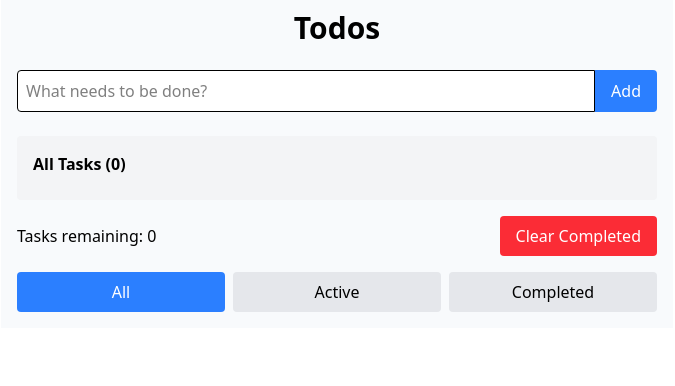
Todos › filters todos correctly
Type "Active task" into the field with placeholder "What needs to be done?" at (306, 91), box left=17, top=70, right=595, bottom=112
Click the button "Add" at (626, 91), box left=595, top=70, right=657, bottom=112
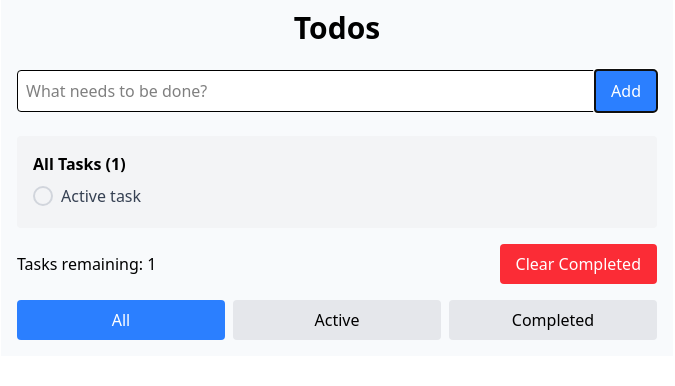
Type "Completed task" into the field with placeholder "What needs to be done?" at (306, 91), box left=17, top=70, right=595, bottom=112
Click the button "Add" at (626, 91), box left=595, top=70, right=657, bottom=112
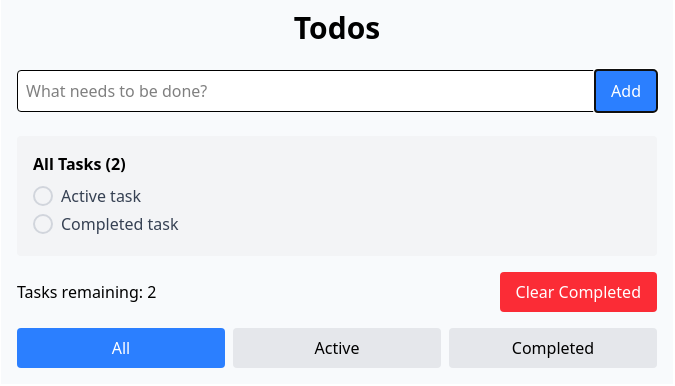
Click the checkbox labelled "Completed task" at (106, 224), box left=33, top=212, right=178, bottom=236
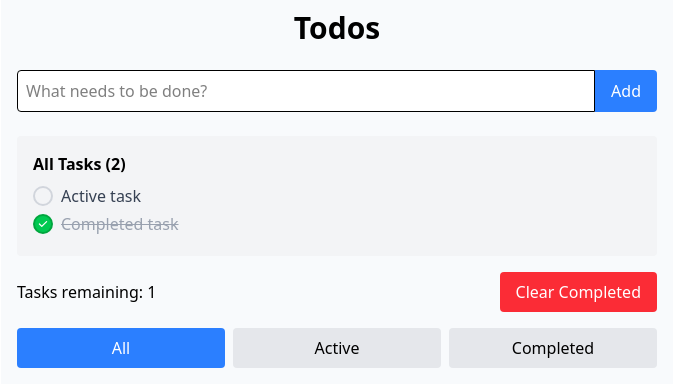
Click the button "Active" at (337, 348), box left=233, top=328, right=441, bottom=368
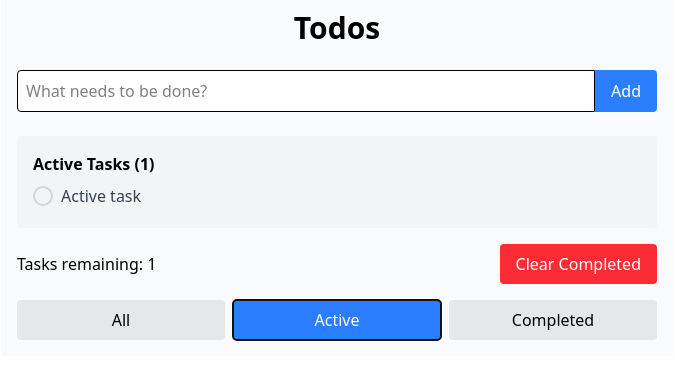
Now the text "Active task" is shown, box left=61, top=184, right=141, bottom=208
Now the number of list items is 1, box left=33, top=185, right=141, bottom=207
Click the button "Completed" at (553, 320), box left=449, top=300, right=657, bottom=340
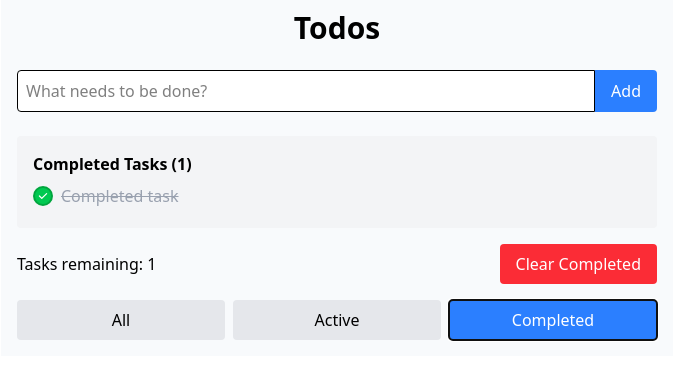
Now the number of list items is 1, box left=33, top=185, right=178, bottom=207
Now the text "Completed task" is shown, box left=61, top=184, right=178, bottom=208
Click the button "All" at (121, 320), box left=17, top=300, right=225, bottom=340
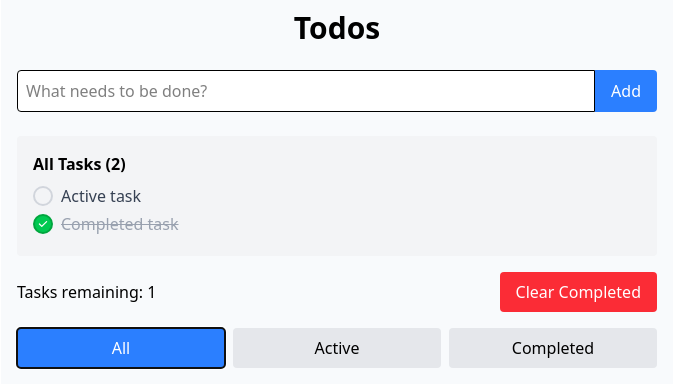
Now the number of list items is 2, box left=33, top=185, right=141, bottom=207; left=33, top=213, right=178, bottom=235
